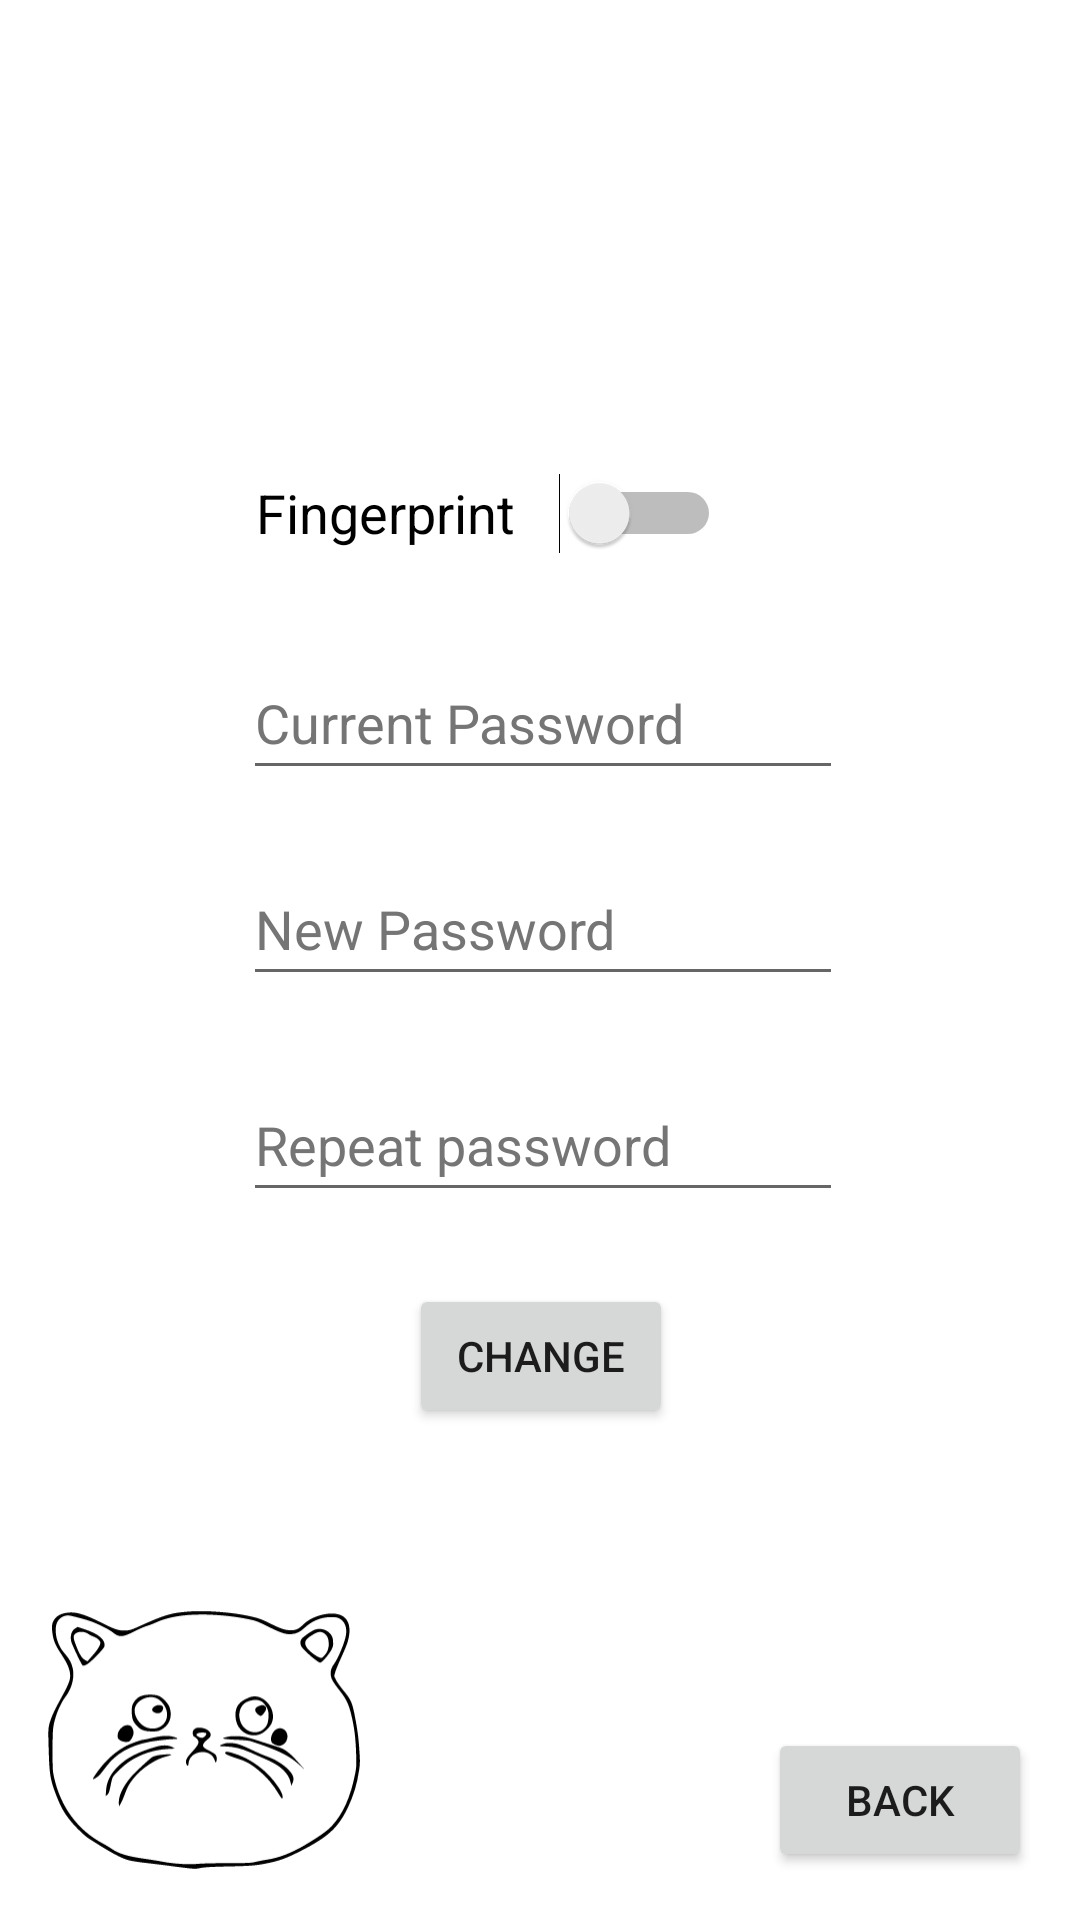

Named icons in this screenshot (1080×1920) and their bounding boxes, (x1, y1, x2, y2):
cat: (48, 1611, 360, 1869)
